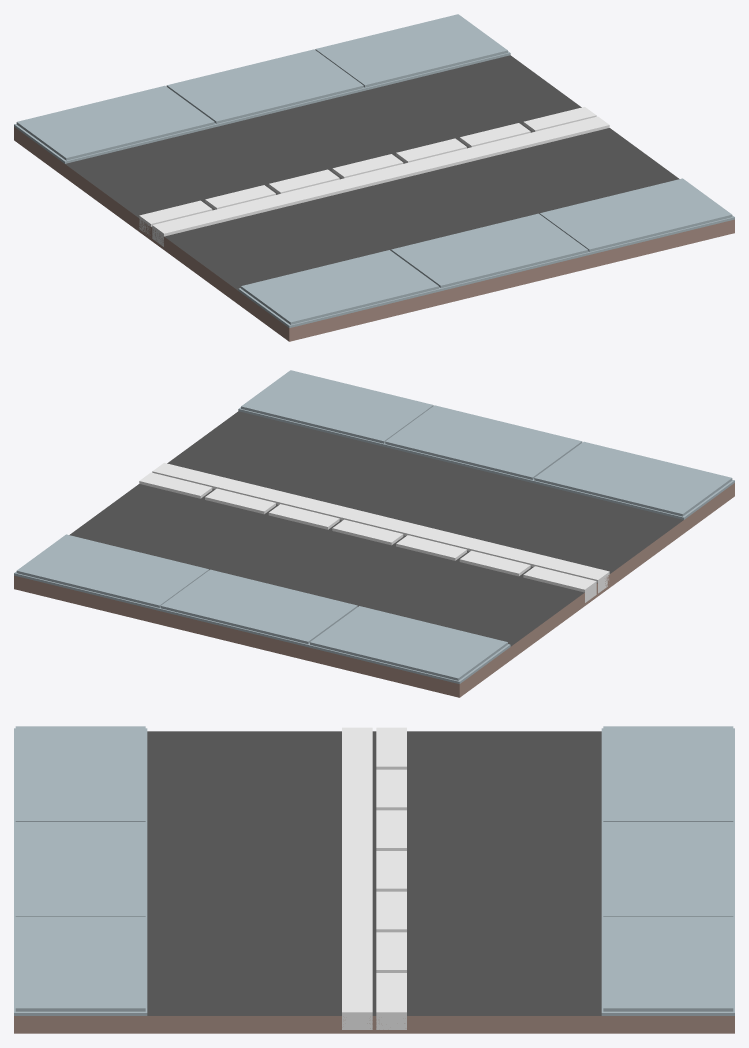
The model's file is Straight_road.glb.
3 renders of one model, top to bottom at view 1: azimuth 30°, elevation 25°; view 2: azimuth 150°, elevation 25°; view 3: azimuth 270°, elevation 25°, orthographic. The views are drawn at different scales.
Parts seen in each view (by area): view 1: Cube_Cube.033; view 2: Cube_Cube.033; view 3: Cube_Cube.033.
Part boxes in pixels (<box>): Cube_Cube.033: <box>14,14,734,341</box>; Cube_Cube.033: <box>14,370,734,697</box>; Cube_Cube.033: <box>14,726,734,1033</box>.
Size of the model in its own units: 19 by 0.7515 by 20.33.
